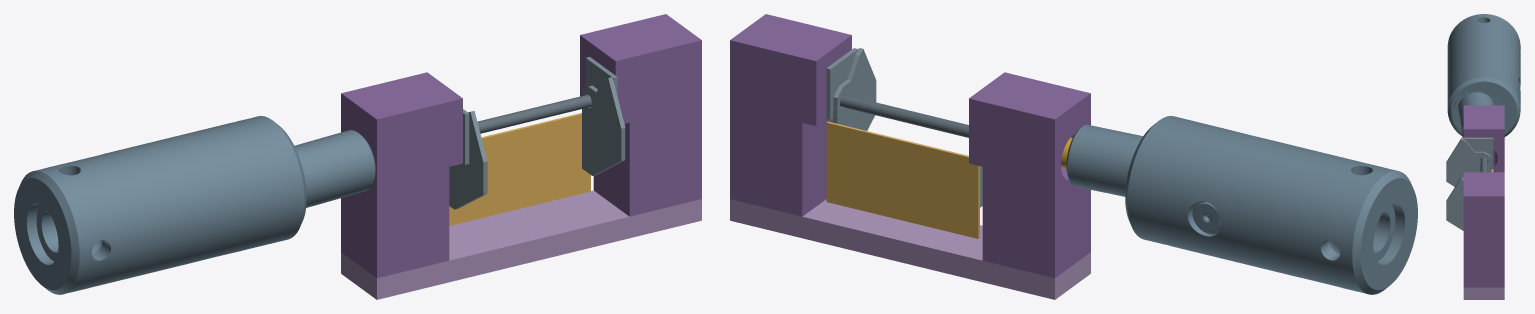
The model's file is heading_hinge_setup.glb.
The picture shows the model from 3 angles, left to right: view 1: azimuth 30°, elevation 25°; view 2: azimuth 150°, elevation 25°; view 3: azimuth 270°, elevation 25°; orthographic projection. The views are drawn at different scales.
Parts seen in each view (by area): view 1: heading_hinge_setup (×6); view 2: heading_hinge_setup (×6); view 3: heading_hinge_setup (×5).
Part boxes in pixels (x1,y1,x2,y2): heading_hinge_setup (×6): (14,14,701,299); heading_hinge_setup (×6): (730,14,1417,299); heading_hinge_setup (×5): (1446,14,1520,299).
Size of the model in its own units: 0.186 by 0.0519 by 0.0324.
